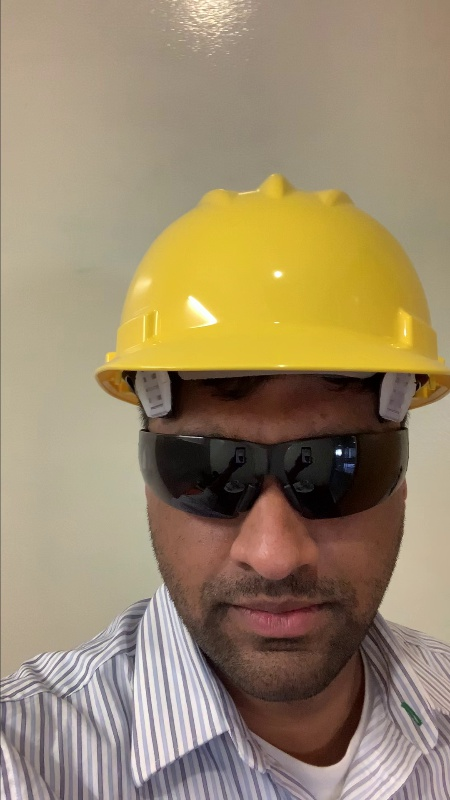glasses: (133, 419, 419, 529)
helmet: (81, 169, 450, 415)
